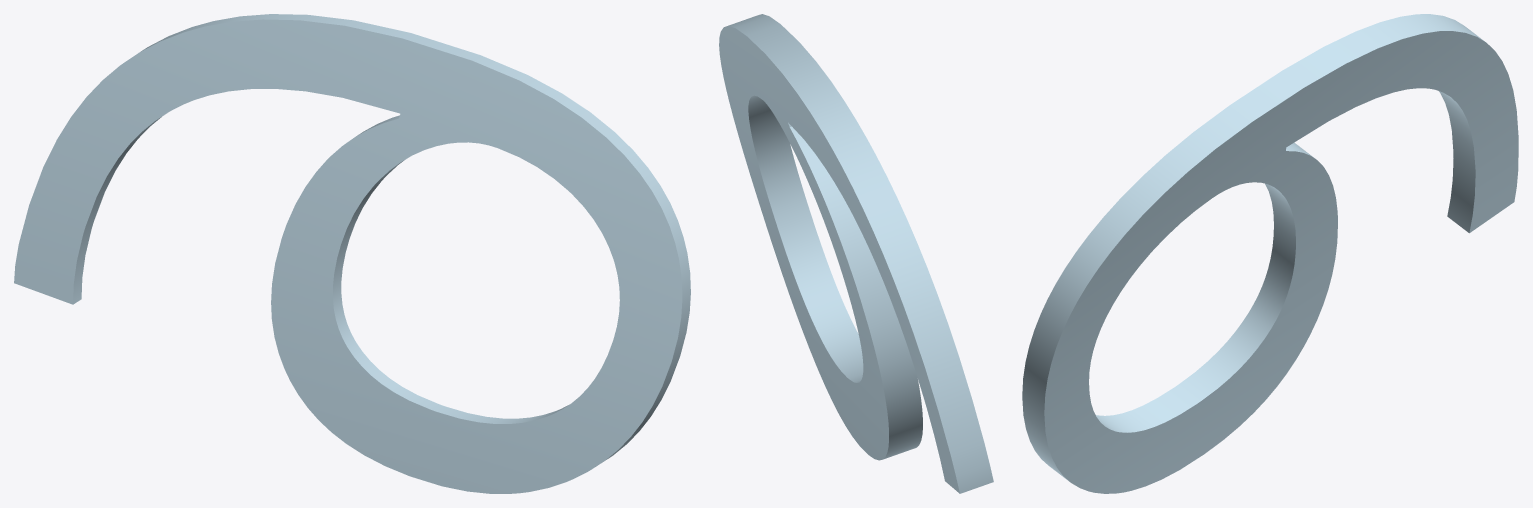
The model's file is Number_9.gltf.
3 views of the same model, side by side, from view 1: azimuth 30°, elevation 25°; view 2: azimuth 150°, elevation 25°; view 3: azimuth 270°, elevation 25° (orthographic). The views are drawn at different scales.
Visible parts, largest first — view 1: Sub_6_Cell_2_1_Number_9; view 2: Sub_6_Cell_2_1_Number_9; view 3: Sub_6_Cell_2_1_Number_9.
Boxes of the visible parts, x1,y1,x2,y2 form: Sub_6_Cell_2_1_Number_9: (14, 14, 690, 493); Sub_6_Cell_2_1_Number_9: (719, 14, 993, 493); Sub_6_Cell_2_1_Number_9: (1022, 14, 1518, 493).
Size of the model in its own units: 0.0204 by 0.0177 by 0.0194.
